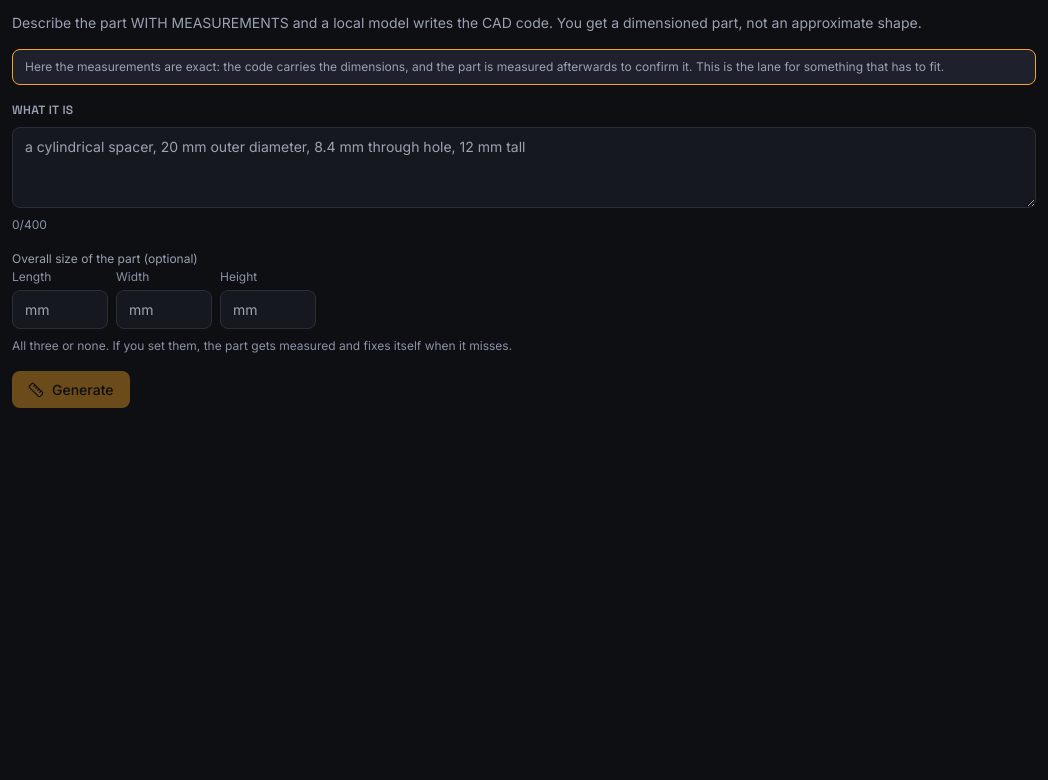
Scenario: lo que muestra el resultado › muestra lo que MIDIO la pieza
Replace the text in the text box labelled "What it is 0/400" with "un espaciador de 20 mm". click: (524, 168)
box: [12, 127, 1036, 208]
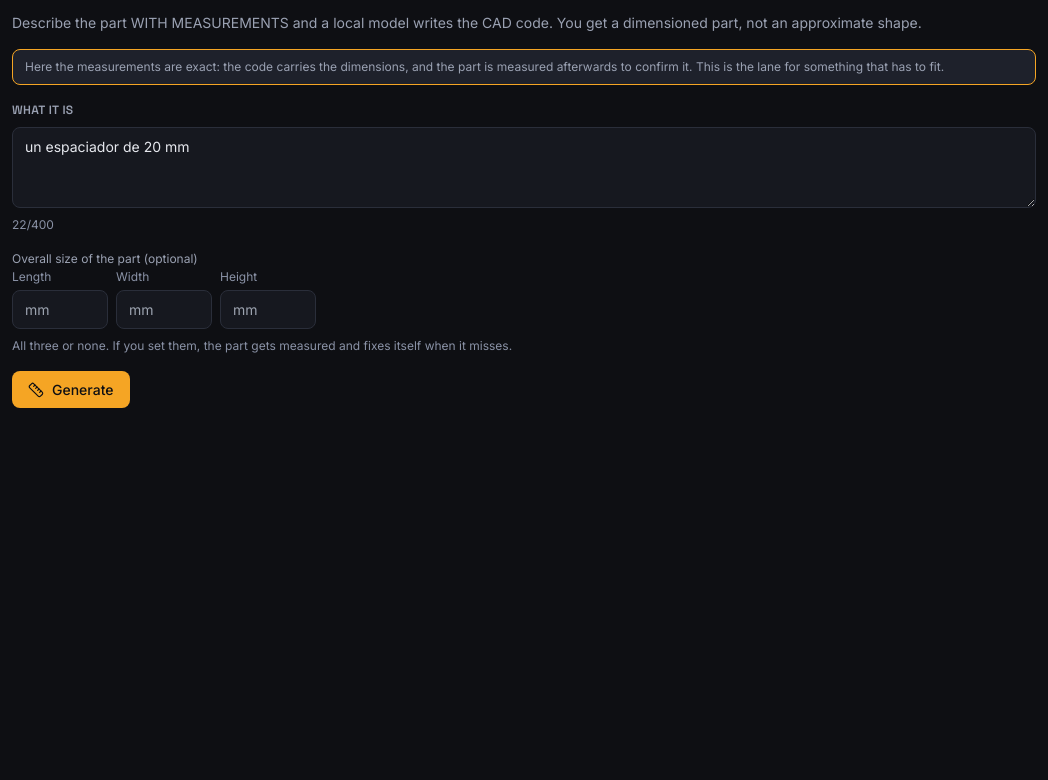
Click the button "Generate". click: (71, 390)
box: [12, 371, 130, 408]
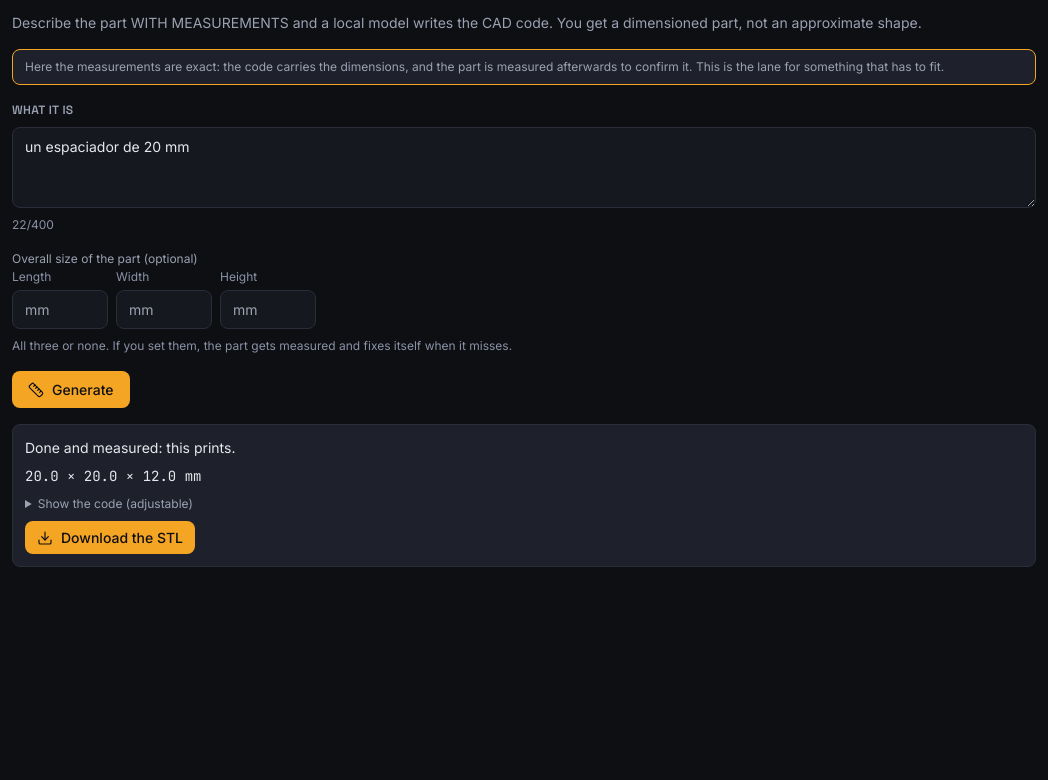
Now the text "20.0 × 20.0 × 12.0 mm" is shown, box [25, 467, 202, 485]
